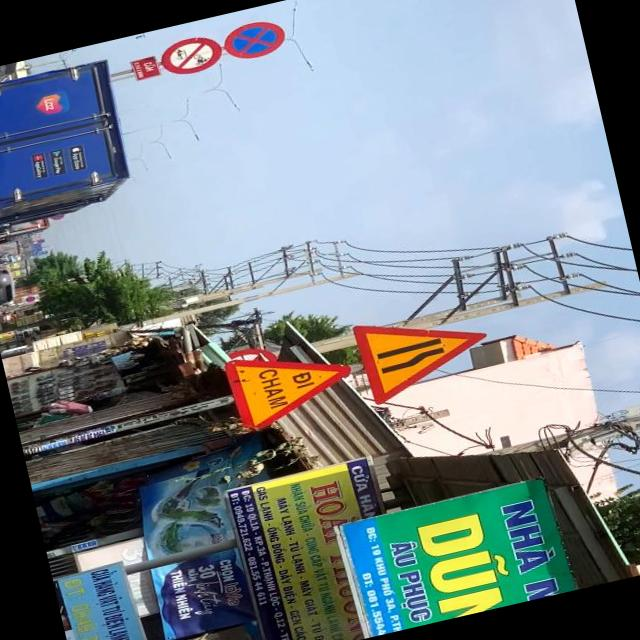P-130: (221, 16, 289, 63)
W-203c: (350, 298, 496, 406)
W-245a: (222, 333, 360, 432)
